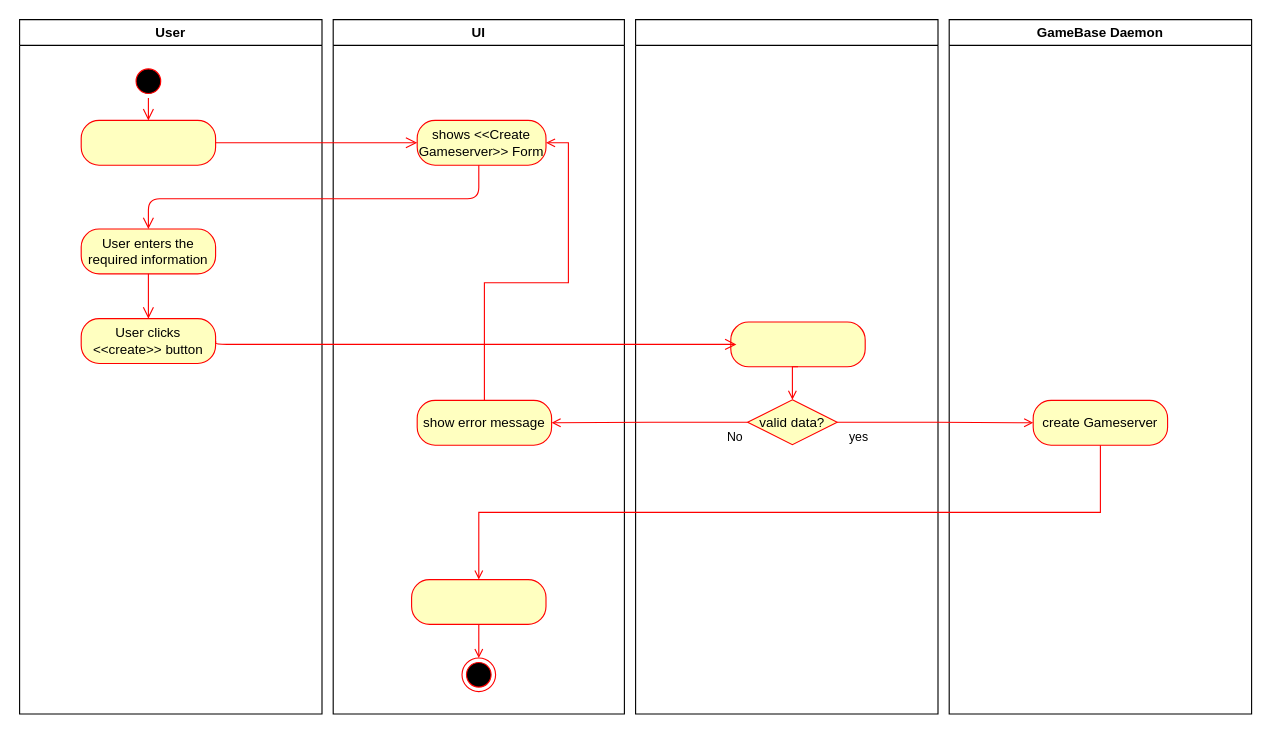
Some shapes in this 1271 by 734 pixel diagram are drawn without their labels. Each missing label, with the box of its shape:
Angular Backend: (634, 18, 938, 714)
show the configure view of the gameserver: (410, 578, 546, 624)
User clicks <<Create Gameserver>>: (80, 119, 216, 165)
Validate data: (730, 321, 865, 367)
